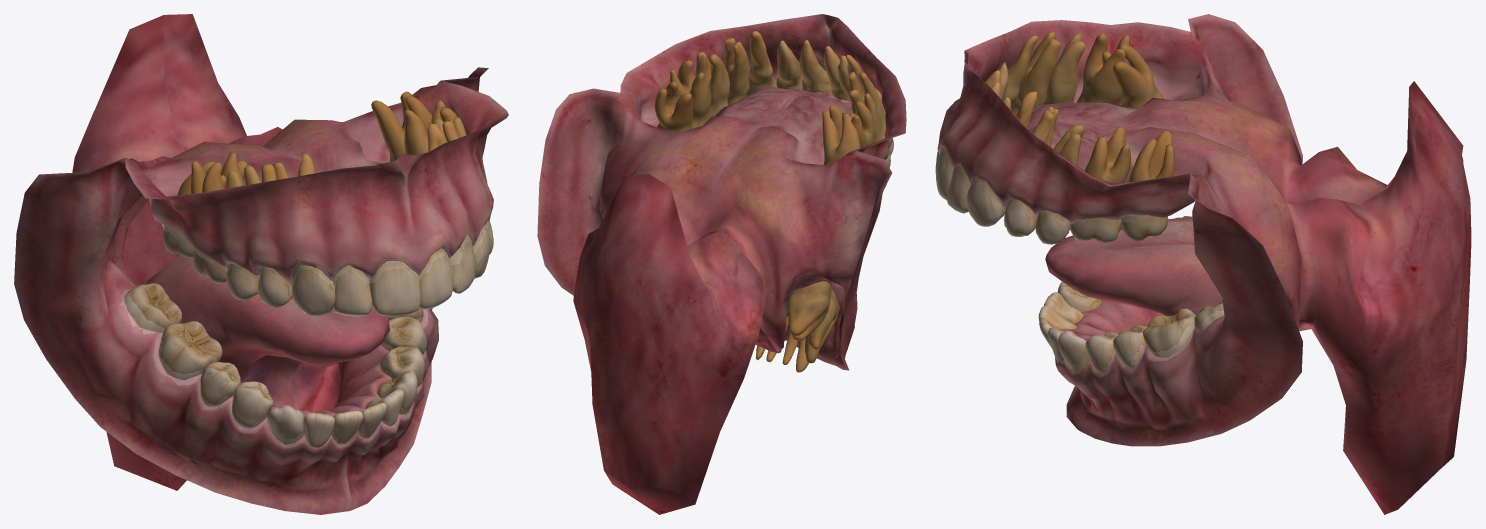
Rendered from human_mouth_detailed.glb.
The picture shows the model from 3 angles, left to right: view 1: azimuth 30°, elevation 25°; view 2: azimuth 150°, elevation 25°; view 3: azimuth 270°, elevation 25°; orthographic projection. The views are drawn at different scales.
Parts seen in each view (by area): view 1: mouth_0, teeth_1, wet_2; view 2: mouth_0, teeth_1; view 3: mouth_0, teeth_1, wet_2.
Boxes of the visible parts, x1,y1,x2,y2 form: mouth_0: [14, 14, 508, 514]; teeth_1: [124, 91, 493, 447]; wet_2: [121, 217, 489, 448]; mouth_0: [537, 14, 906, 514]; teeth_1: [654, 31, 893, 372]; mouth_0: [937, 14, 1471, 514]; teeth_1: [935, 32, 1224, 372]; wet_2: [938, 91, 1223, 377].
Size of the model in its own units: 0.2433 by 0.2663 by 0.2801.
Materials: 3 (2 with a texture image).
